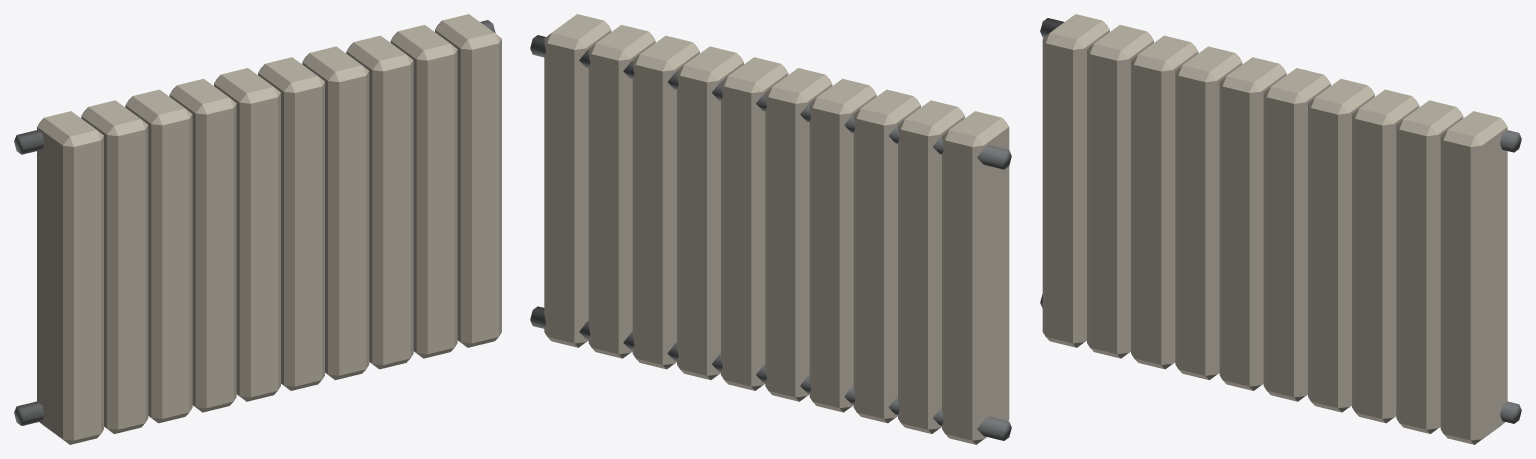
File: radiator.glb
3 renders of one model, left to right at view 1: azimuth 30°, elevation 25°; view 2: azimuth 150°, elevation 25°; view 3: azimuth 330°, elevation 25°, orthographic.
Parts seen in each view (by area): view 1: Radiator; view 2: Radiator; view 3: Radiator.
Boxes of the visible parts, x1=… form: Radiator: x1=14, y1=14, x2=501, y2=444; Radiator: x1=530, y1=14, x2=1011, y2=444; Radiator: x1=1040, y1=14, x2=1521, y2=444.
Bounding box in the file's own units: 0.8 × 0.5 × 0.1.
